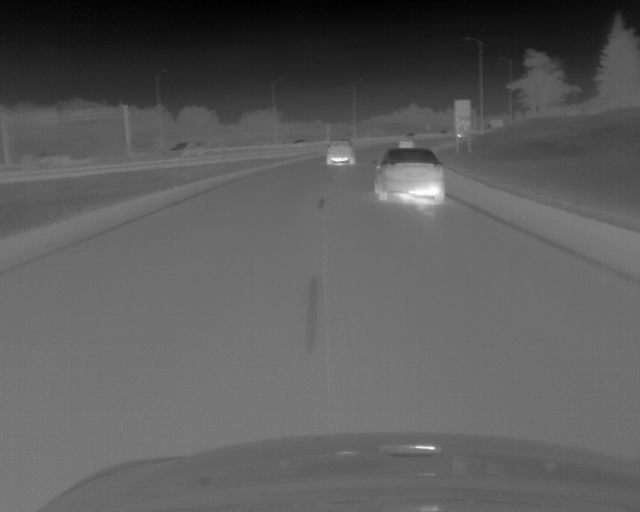car: (373, 148, 446, 200), (326, 140, 354, 165), (169, 139, 201, 150), (399, 136, 415, 148)
